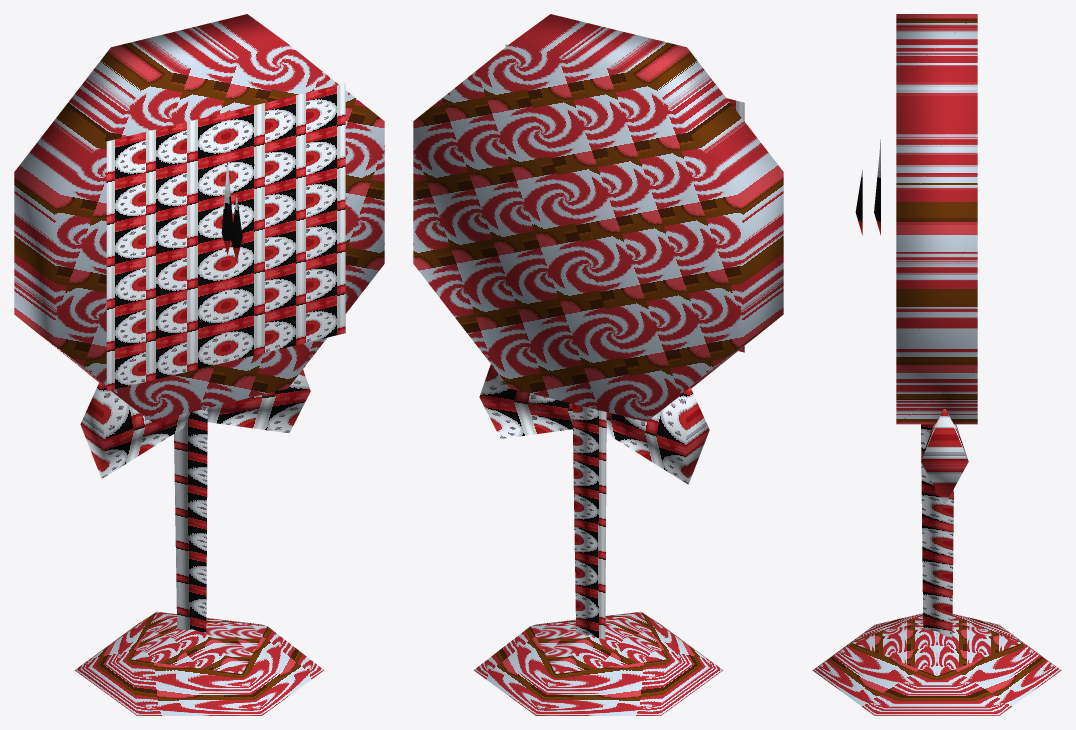
Rendered from 3148IMFY02_10.gltf.
The picture shows the model from 3 angles, left to right: view 1: azimuth 30°, elevation 25°; view 2: azimuth 150°, elevation 25°; view 3: azimuth 270°, elevation 25°; orthographic projection.
Visible parts, largest first — view 1: 3148IMFY02_10; view 2: 3148IMFY02_10; view 3: 3148IMFY02_10.
Part boxes in pixels (x1=…): 3148IMFY02_10: x1=14, y1=14, x2=384, y2=715; 3148IMFY02_10: x1=413, y1=14, x2=783, y2=715; 3148IMFY02_10: x1=812, y1=14, x2=1061, y2=715.
Size of the model in its own units: 0.5151 by 0.933 by 0.3384.
2 materials, 2 textured.
